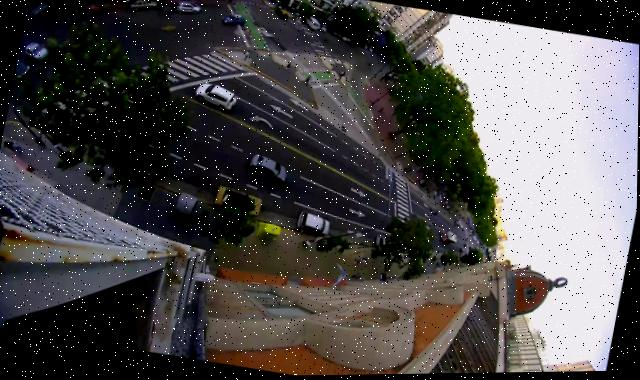bus: (441, 231, 460, 246)
car: (214, 185, 264, 217), (193, 82, 240, 113), (248, 153, 290, 183), (297, 212, 332, 236), (23, 41, 51, 62), (175, 0, 201, 18), (80, 0, 104, 17), (129, 0, 158, 14), (14, 60, 33, 81), (222, 13, 247, 28), (304, 17, 320, 31), (274, 9, 290, 21), (376, 236, 387, 247), (430, 209, 440, 216), (321, 25, 328, 33), (455, 220, 462, 225), (460, 249, 466, 254), (458, 223, 463, 228), (463, 228, 468, 233), (464, 245, 469, 250), (461, 225, 465, 229)
